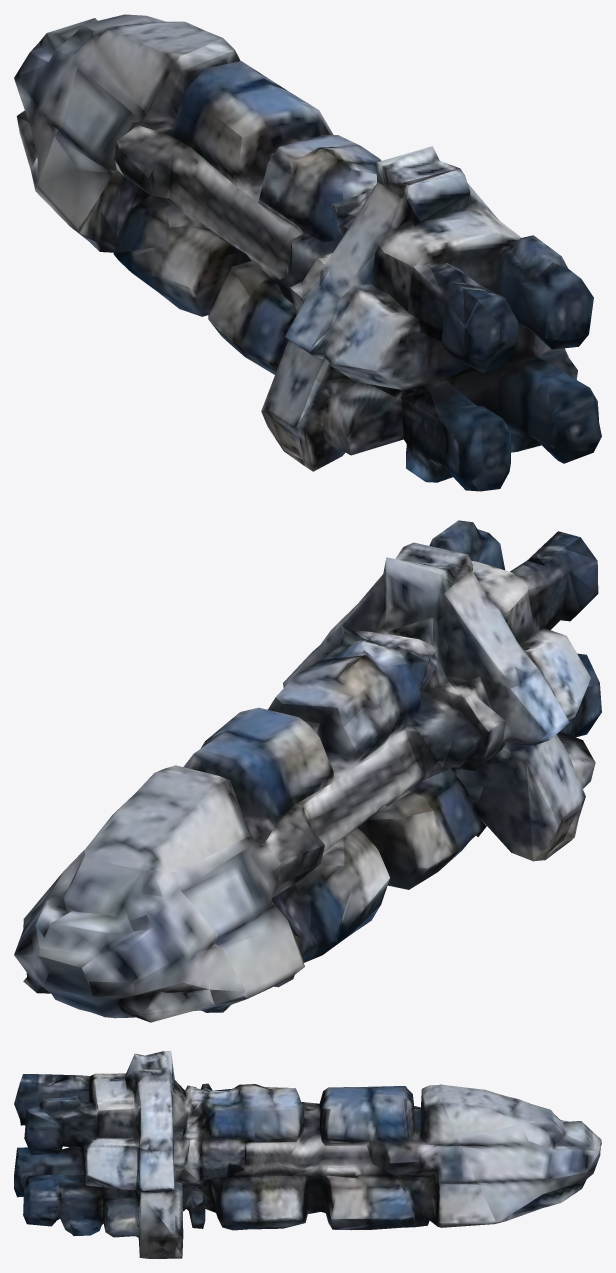
Rendered from freighter.glb.
3 renders of one model, top to bottom at view 1: azimuth 30°, elevation 25°; view 2: azimuth 150°, elevation 25°; view 3: azimuth 270°, elevation 25°, orthographic. The views are drawn at different scales.
Parts seen in each view (by area): view 1: freighter; view 2: freighter; view 3: freighter.
Part boxes in pixels (x1,y1,x2,y2): freighter: [14, 14, 601, 491]; freighter: [14, 520, 601, 1022]; freighter: [14, 1051, 601, 1258].
Bounding box in the file's own units: 0.1326 × 0.1192 × 0.3843.
Materials: 1 (1 with a texture image).
